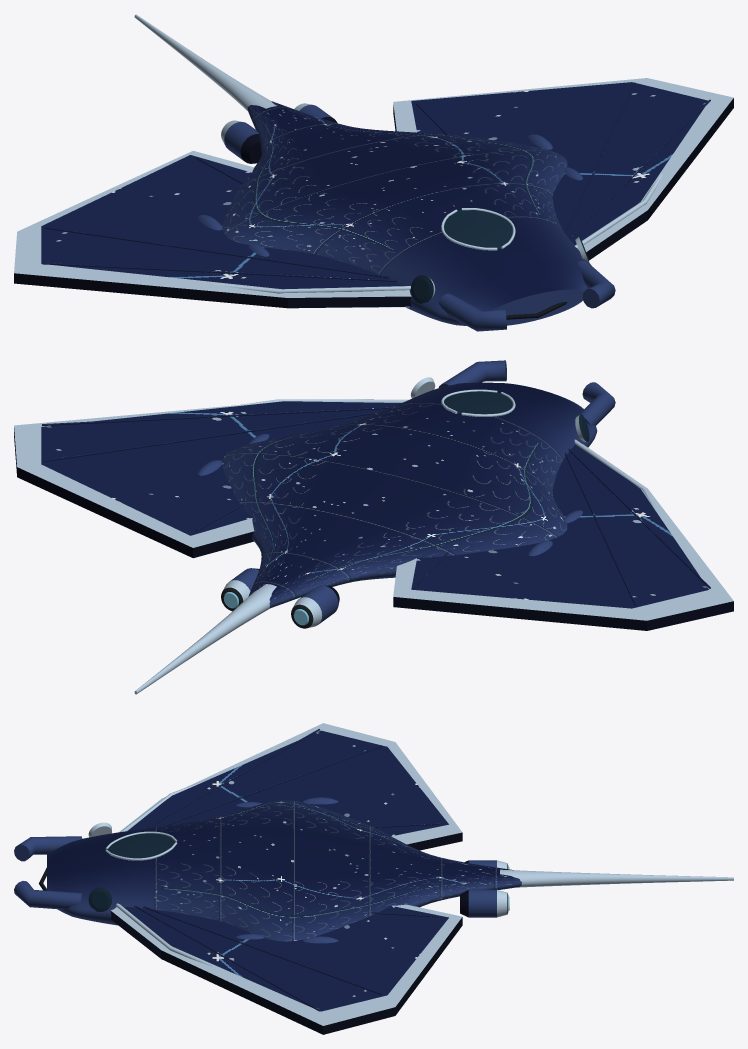
3 renders of one model, top to bottom at view 1: azimuth 30°, elevation 25°; view 2: azimuth 150°, elevation 25°; view 3: azimuth 270°, elevation 25°, orthographic. The views are drawn at different scales.
Visible parts, largest first — view 1: manta_ray_hull; view 2: manta_ray_hull; view 3: manta_ray_hull.
Part boxes in pixels (left/top/right/bottom): manta_ray_hull: left=14, top=14, right=733, bottom=331; manta_ray_hull: left=14, top=360, right=733, bottom=694; manta_ray_hull: left=14, top=723, right=733, bottom=1034.
Bounding box in the file's own units: 81.66 × 9.18 × 82.
Materials: 1 (1 with a texture image).
